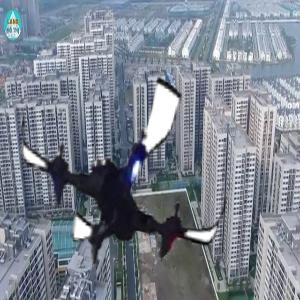drone: (9, 54, 240, 285)
